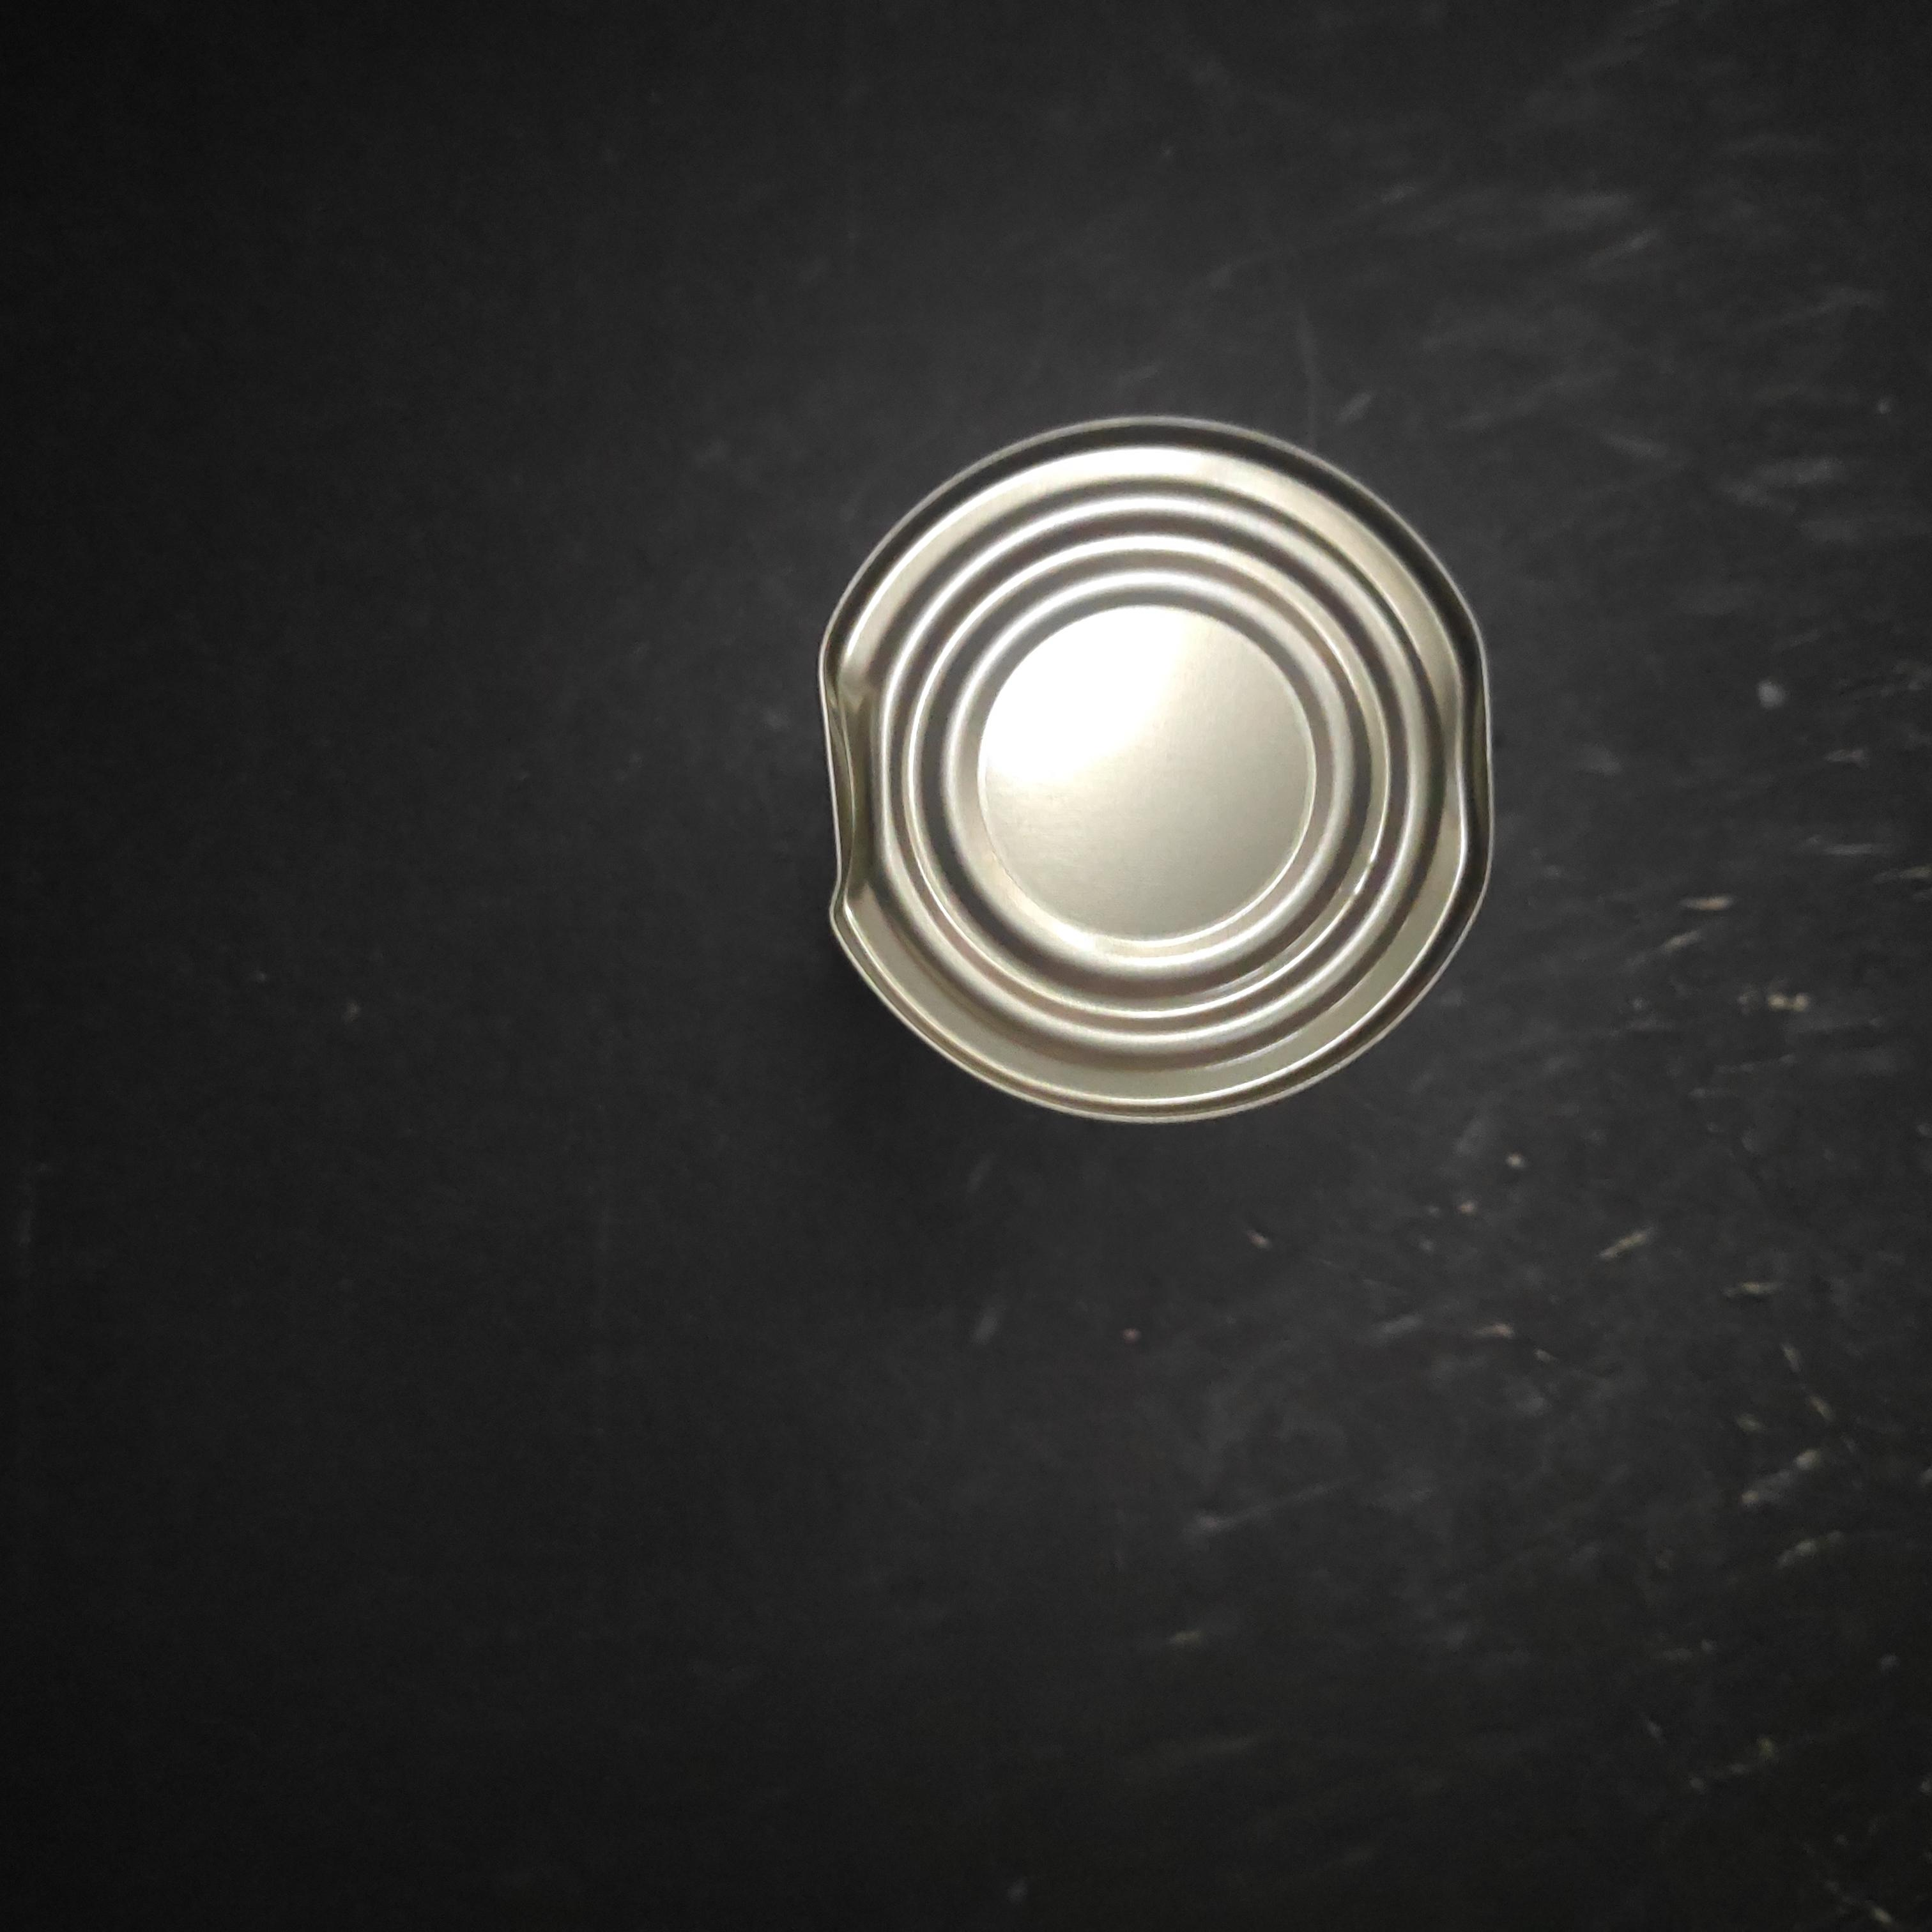Minor Defect: (423, 793, 1137, 1547)
